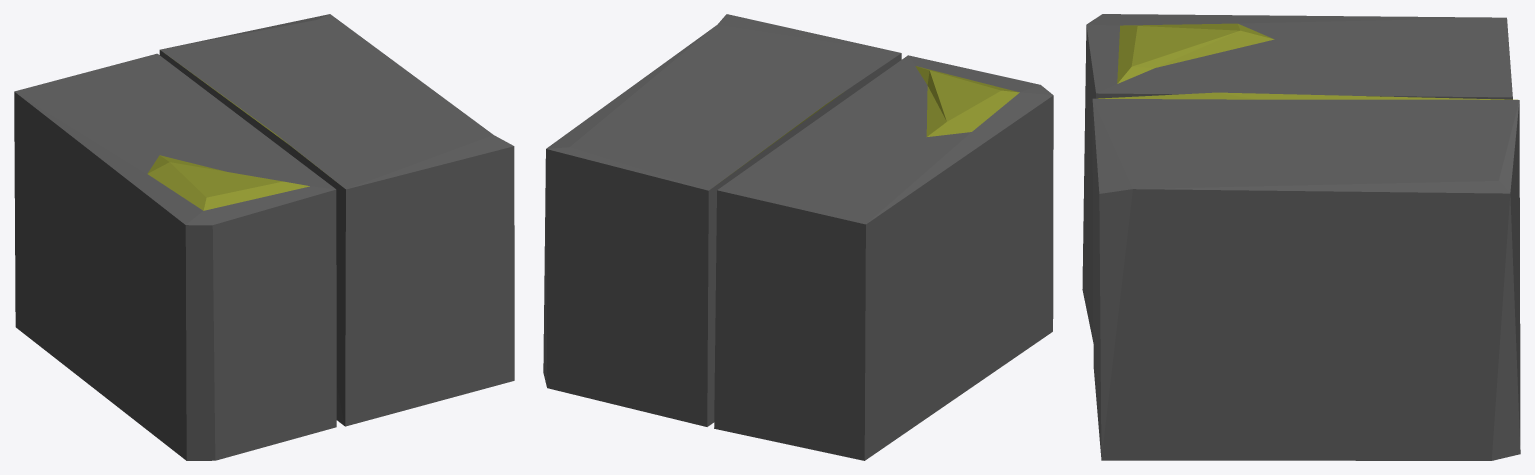
File: tile_squared_moss_type_5_LOD3.fbx
3 views of the same model, side by side, from view 1: azimuth 30°, elevation 25°; view 2: azimuth 150°, elevation 25°; view 3: azimuth 270°, elevation 25° (orthographic). The views are drawn at different scales.
Visible parts, largest first — view 1: tile_squared_moss_type_5; view 2: tile_squared_moss_type_5; view 3: tile_squared_moss_type_5.
Boxes of the visible parts, x1,y1,x2,y2 form: tile_squared_moss_type_5: [14, 14, 514, 460]; tile_squared_moss_type_5: [543, 14, 1053, 460]; tile_squared_moss_type_5: [1082, 14, 1520, 460].
Size of the model in its own units: 118 by 81.81 by 118.
